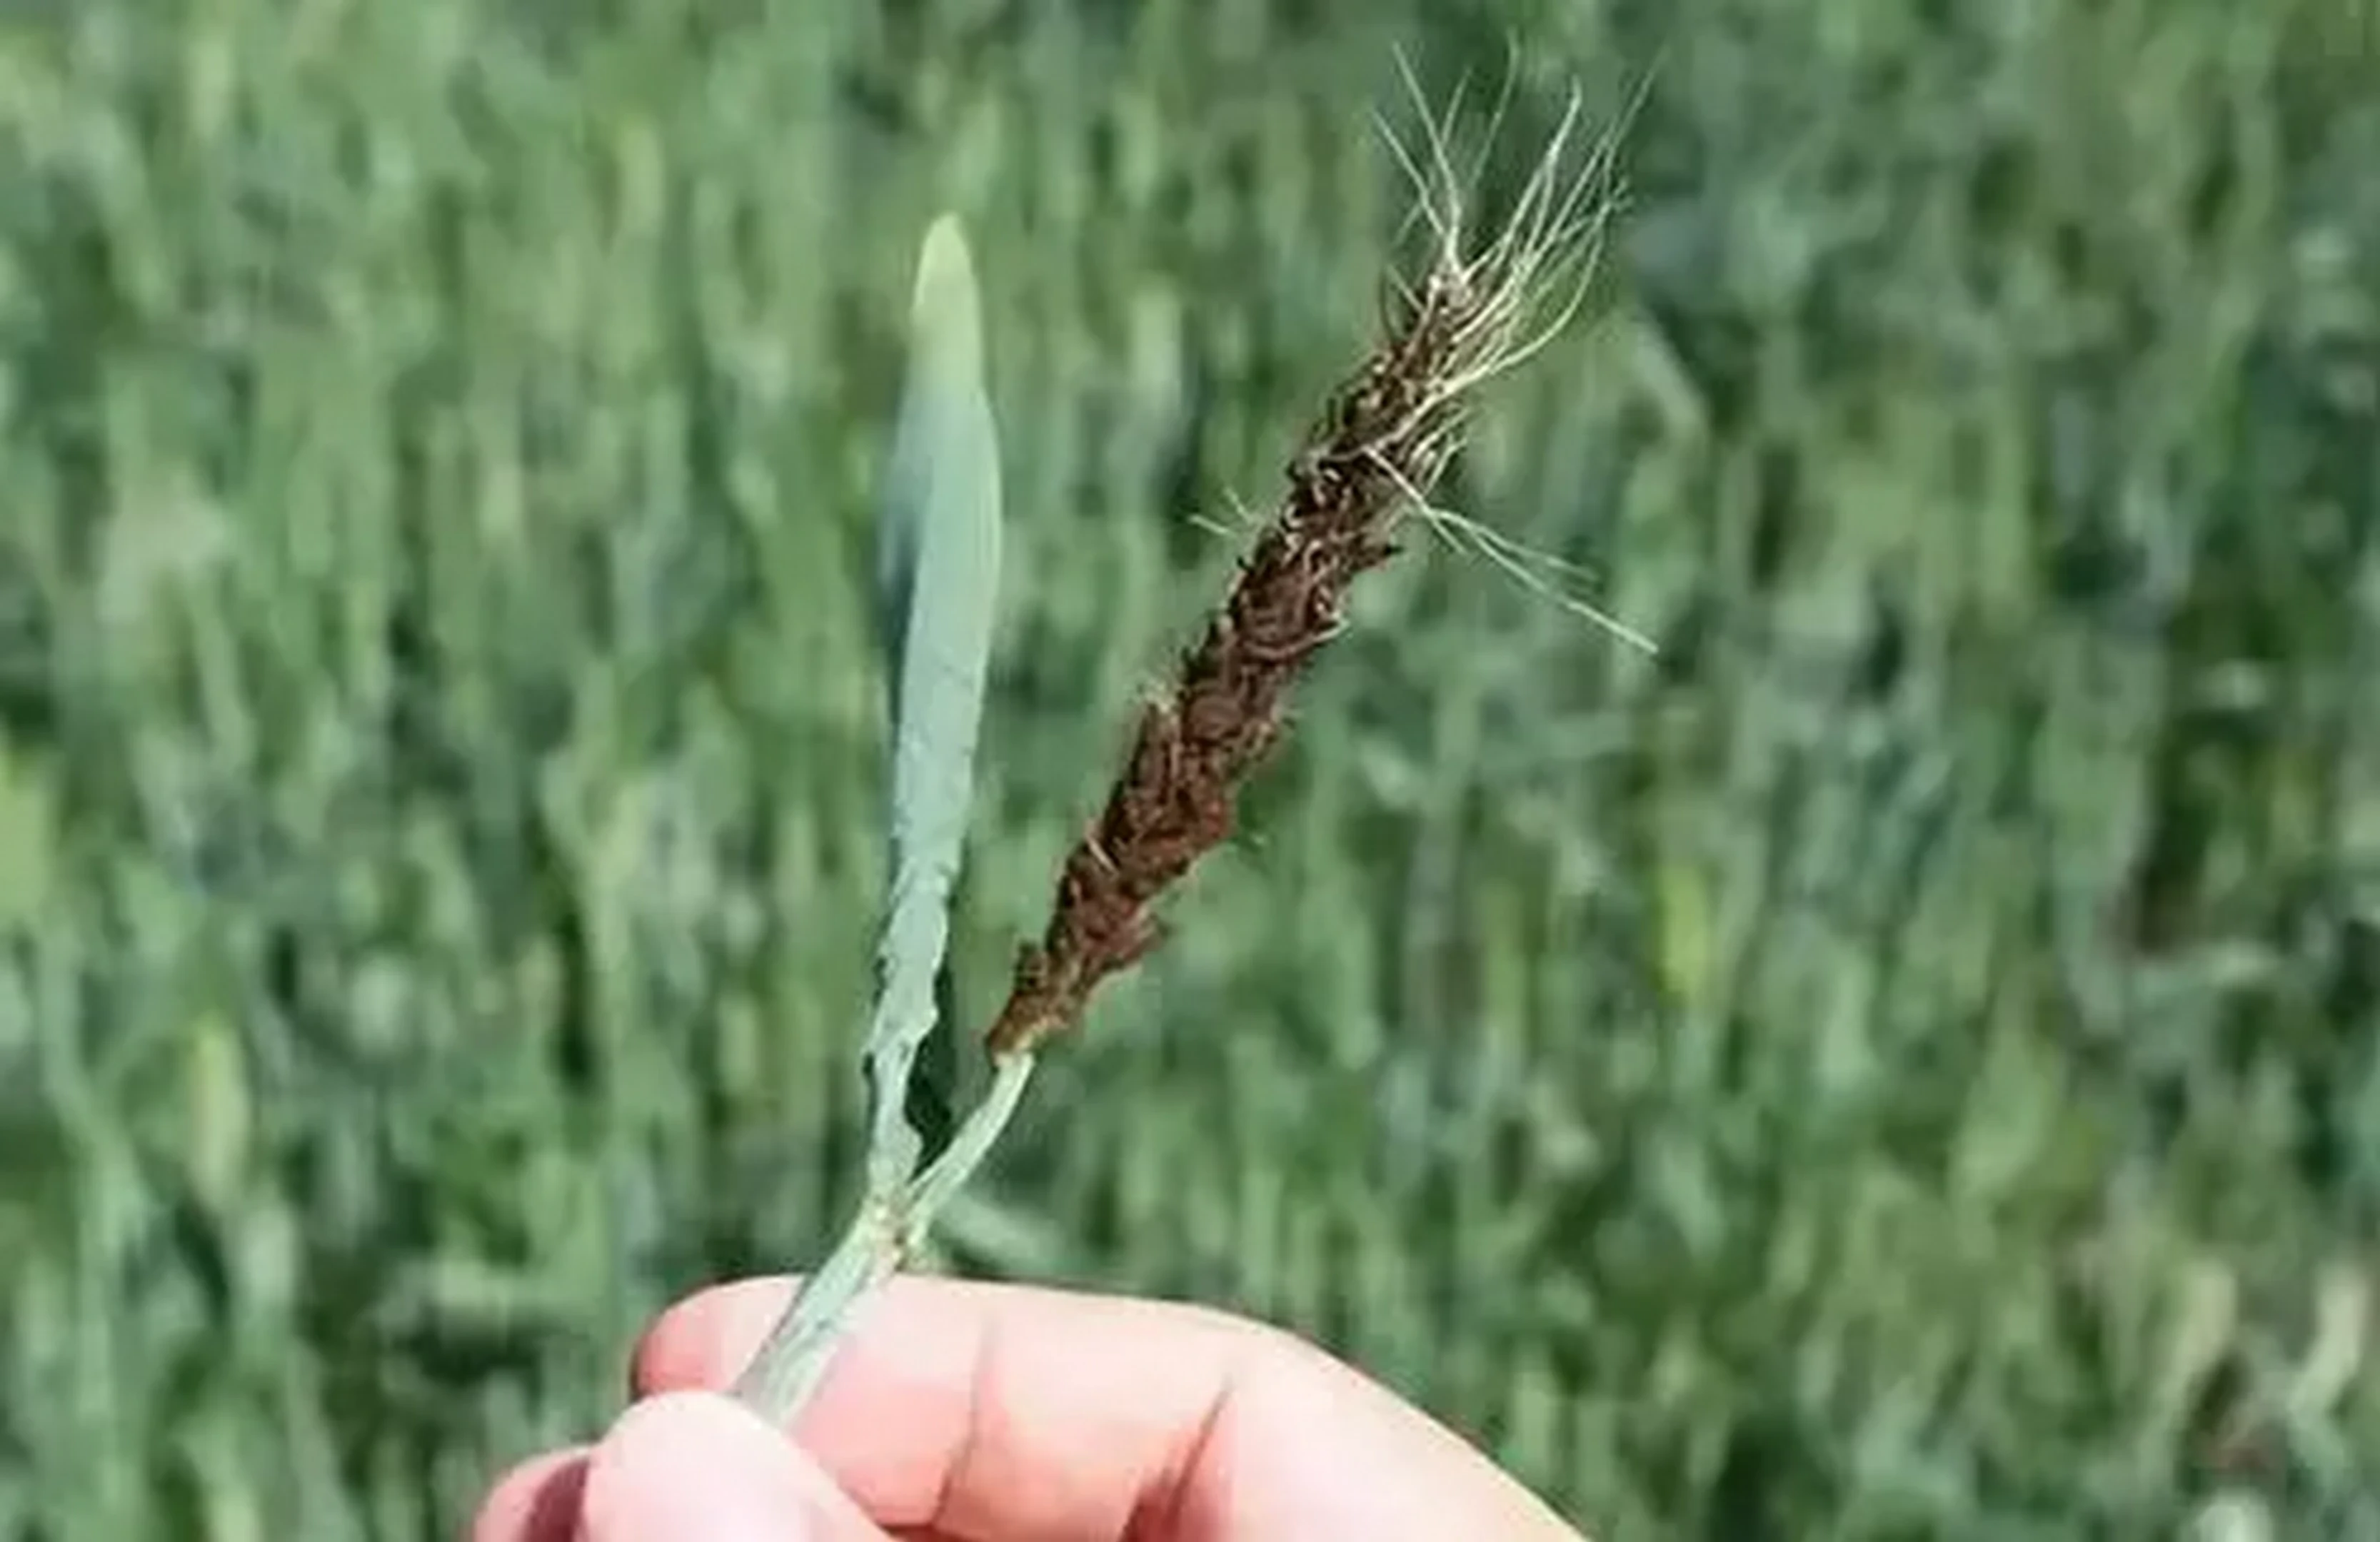Wheat Loose Smut: (1003, 271, 1521, 1044)
